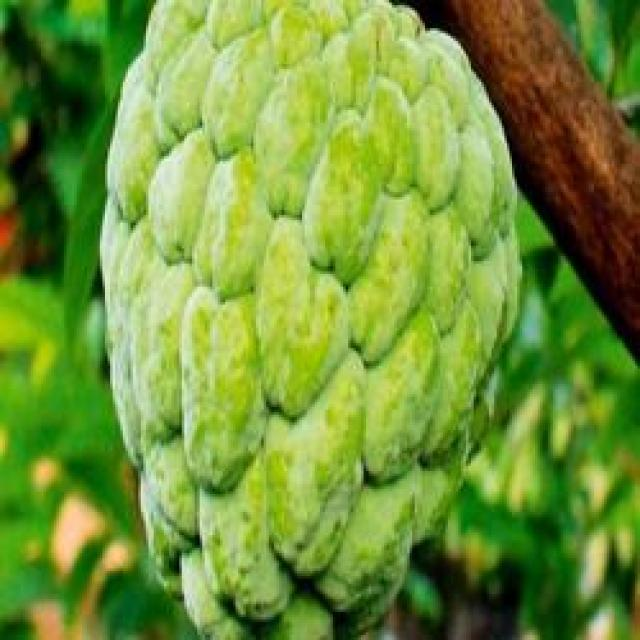apple: (100, 2, 512, 640)
